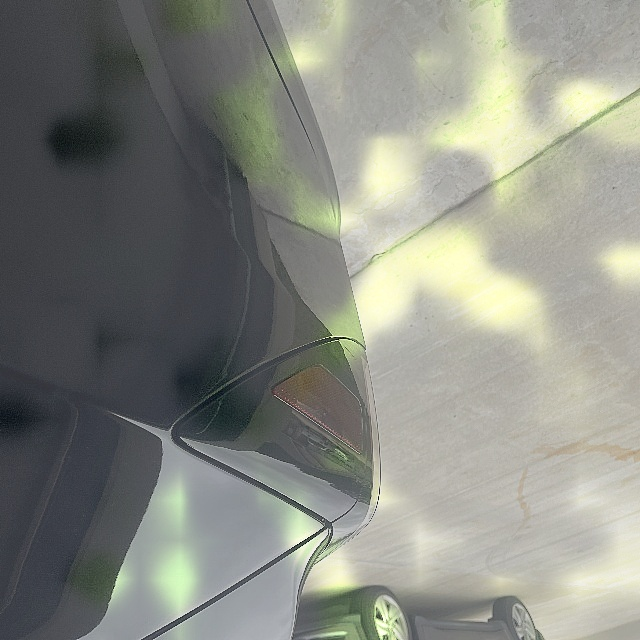reflector: (272, 364, 364, 454)
